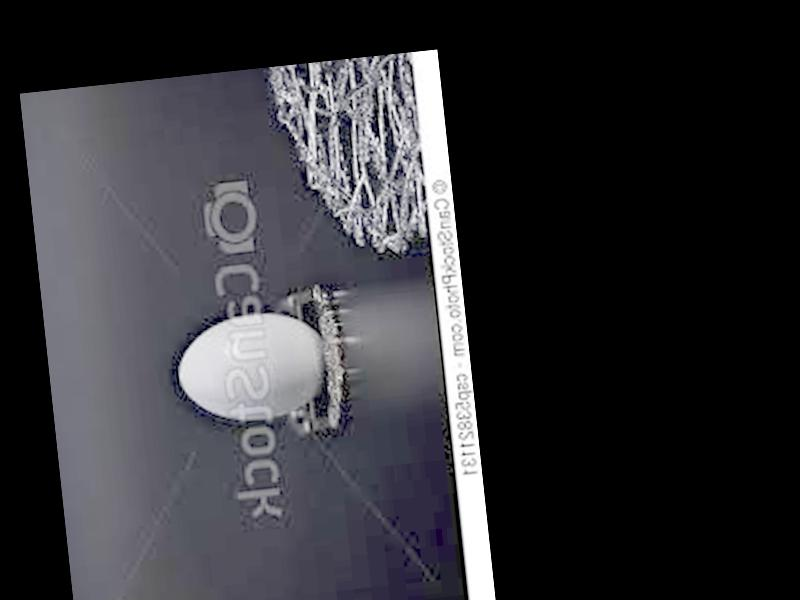Eggs: (173, 306, 330, 427)
